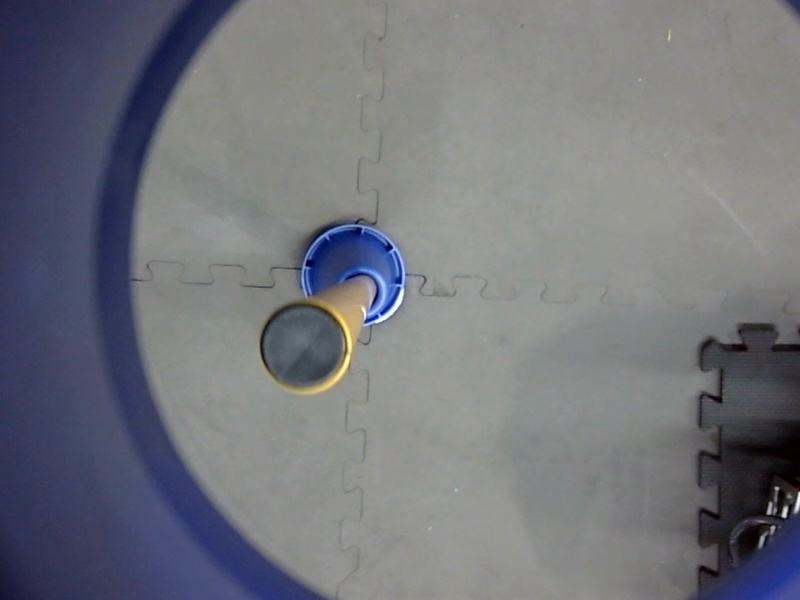tip: (255, 294, 357, 399)
